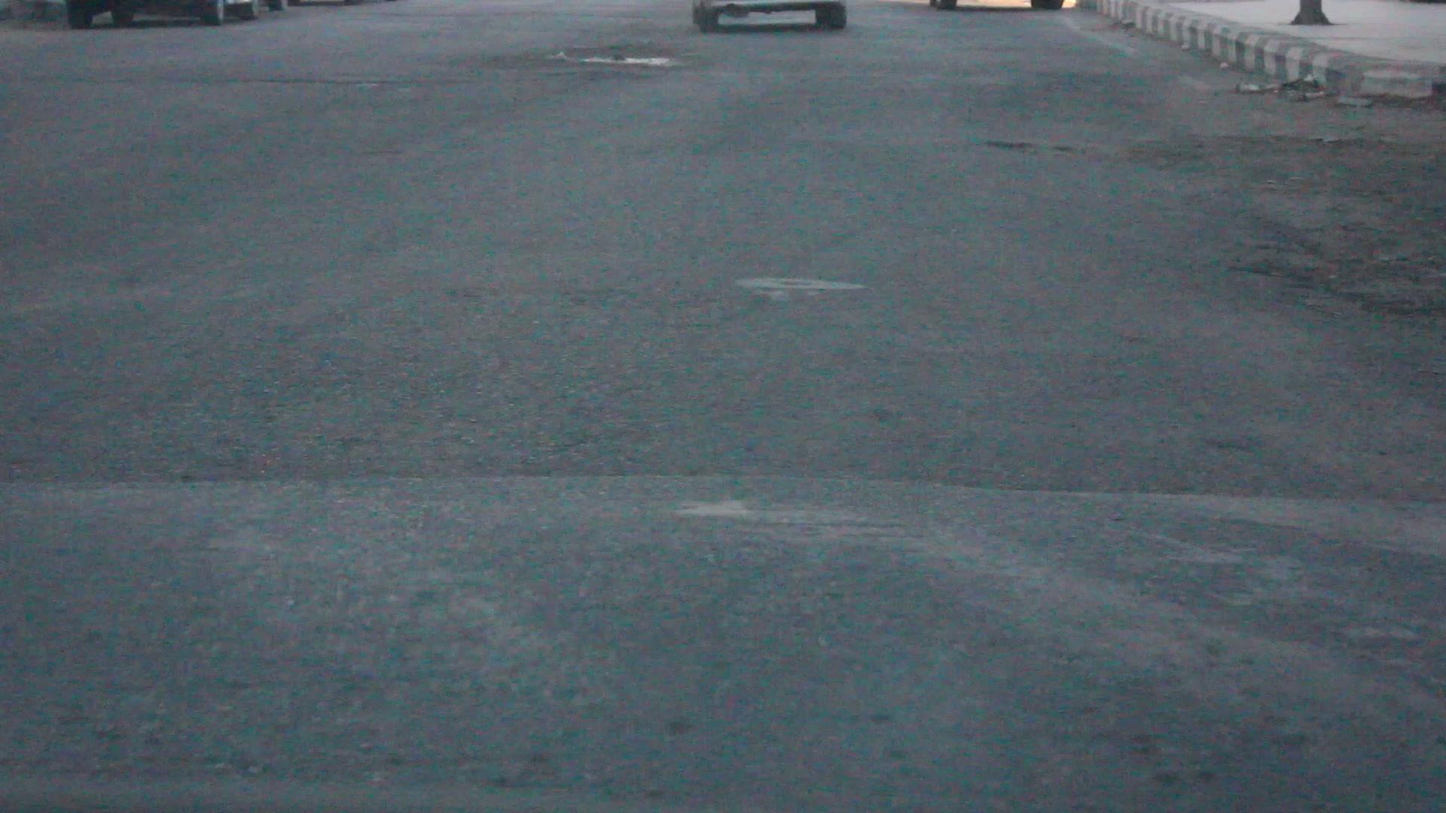Bump: (1, 476, 1445, 812)
Pothole: (501, 42, 687, 69)
